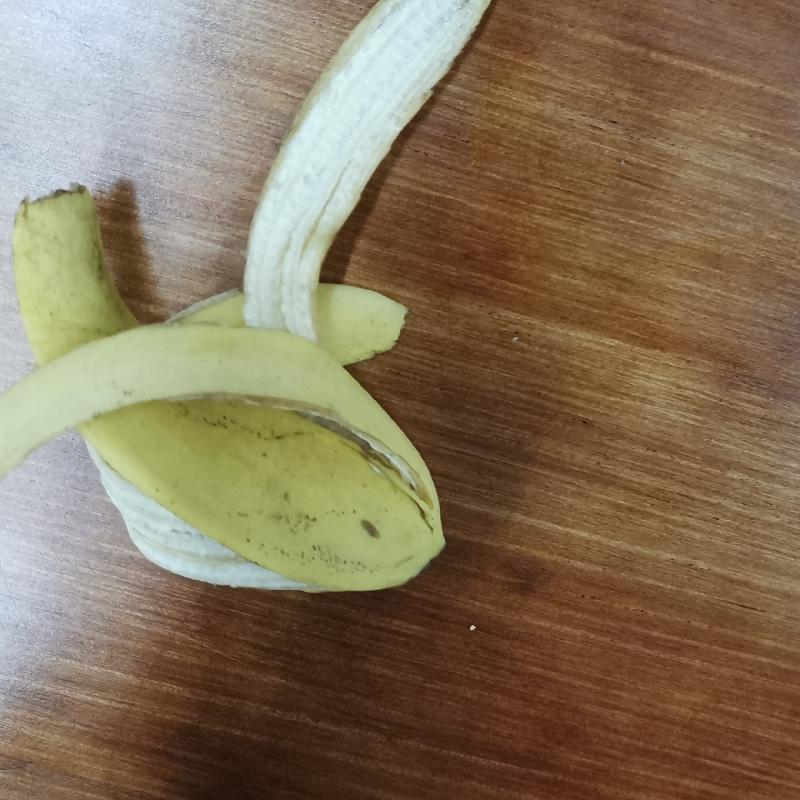bananas: (4, 4, 498, 591)
